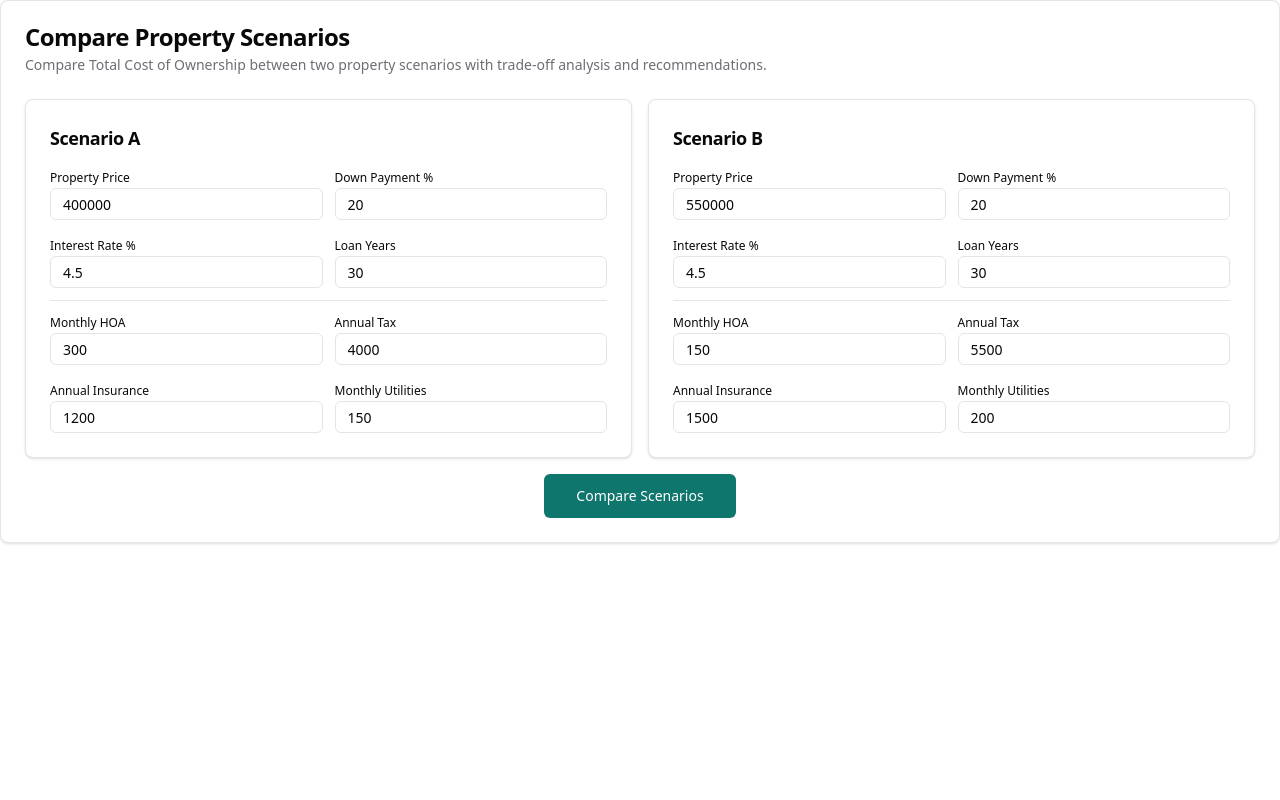
TCOComparison › shows the API error message when the client raises an ApiError
The image size is (1280, 800).
Click the button "Compare Scenarios".
click(640, 496)  # box [544, 474, 736, 518]
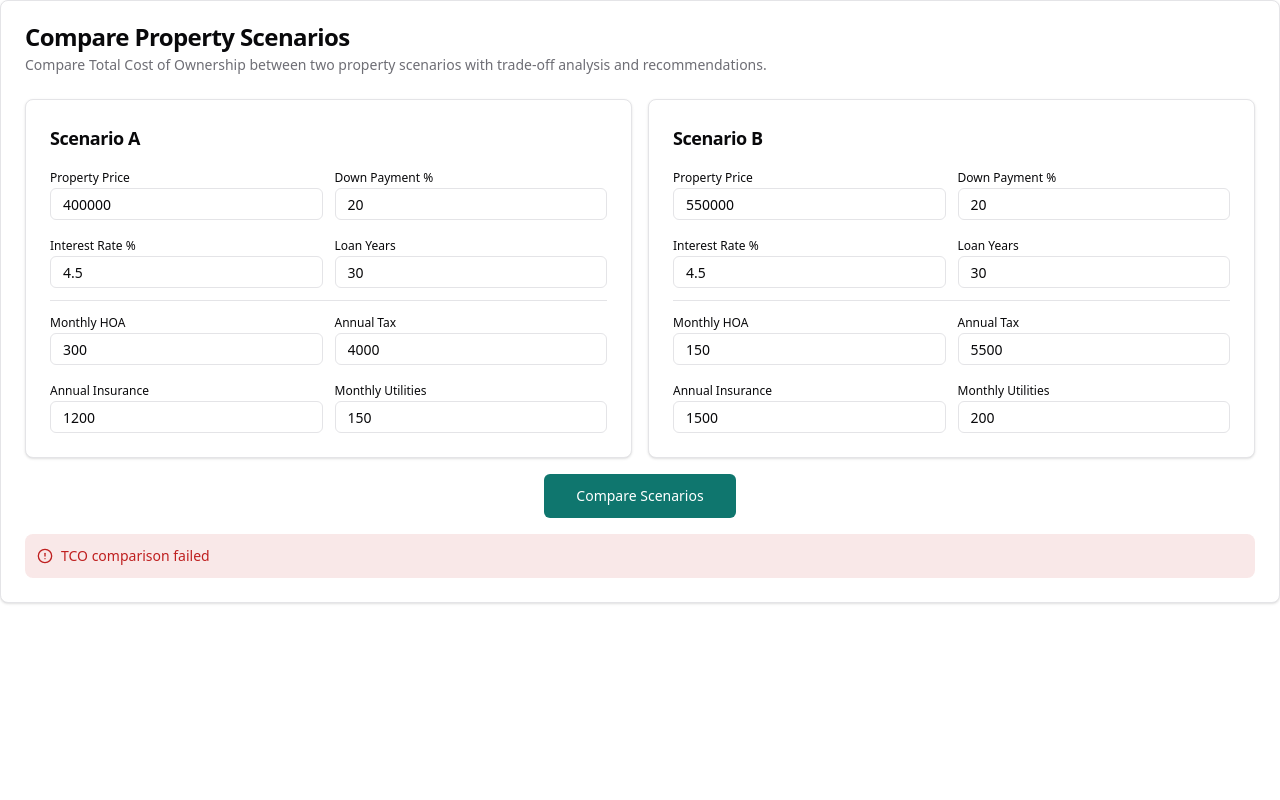
Expected: the text "TCO comparison failed" is shown, [61, 546, 210, 566]
